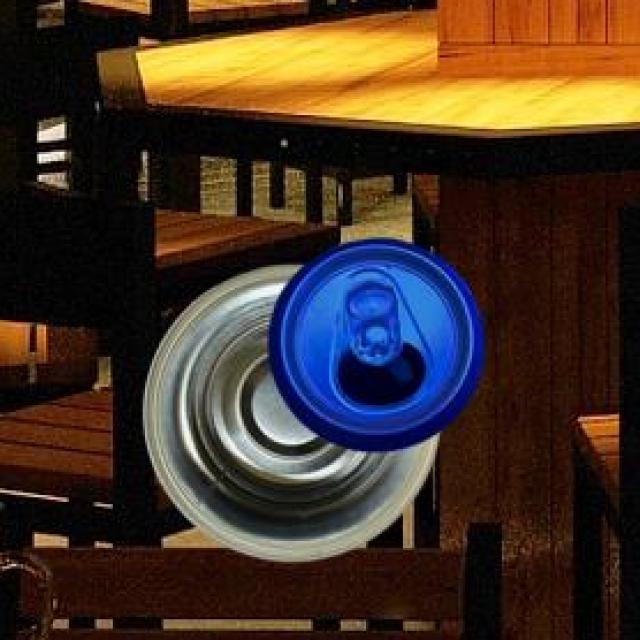logam: (142, 261, 436, 558), (266, 236, 480, 448)
